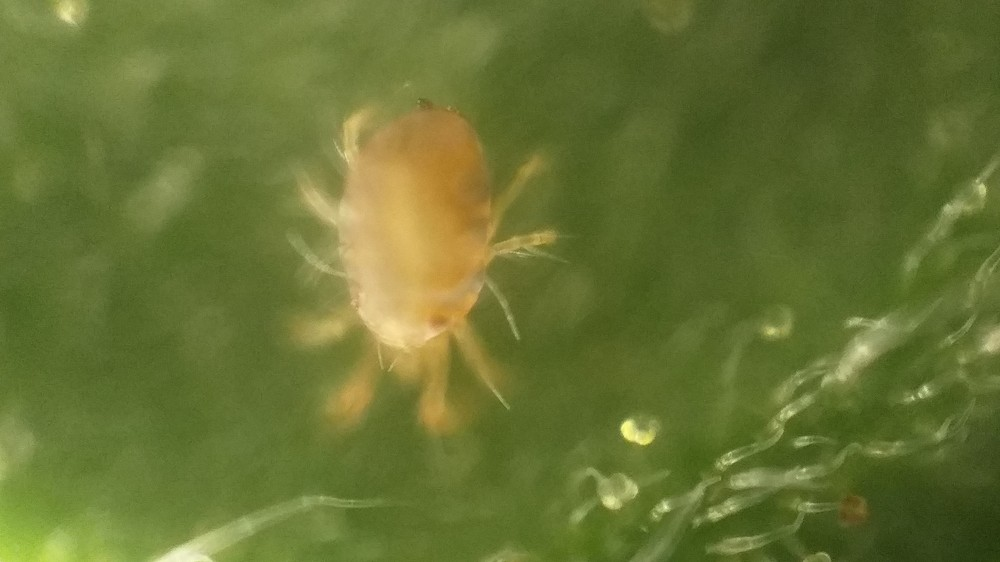Aracnido Rojo: (271, 84, 558, 456)
